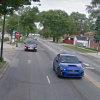Car: (48, 48, 87, 85)
